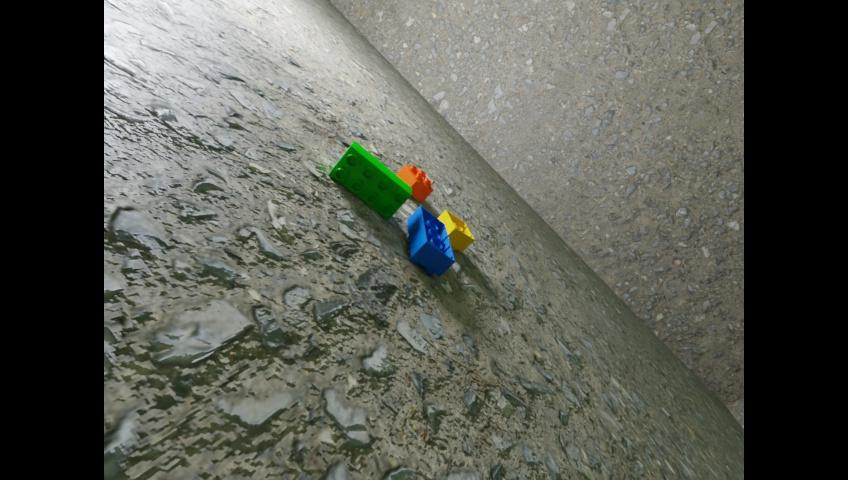2x2_orange: (396, 163, 432, 201)
2x2_yellow: (437, 209, 473, 251)
4x2_blue: (406, 205, 454, 276)
4x2_green: (328, 140, 410, 219)
